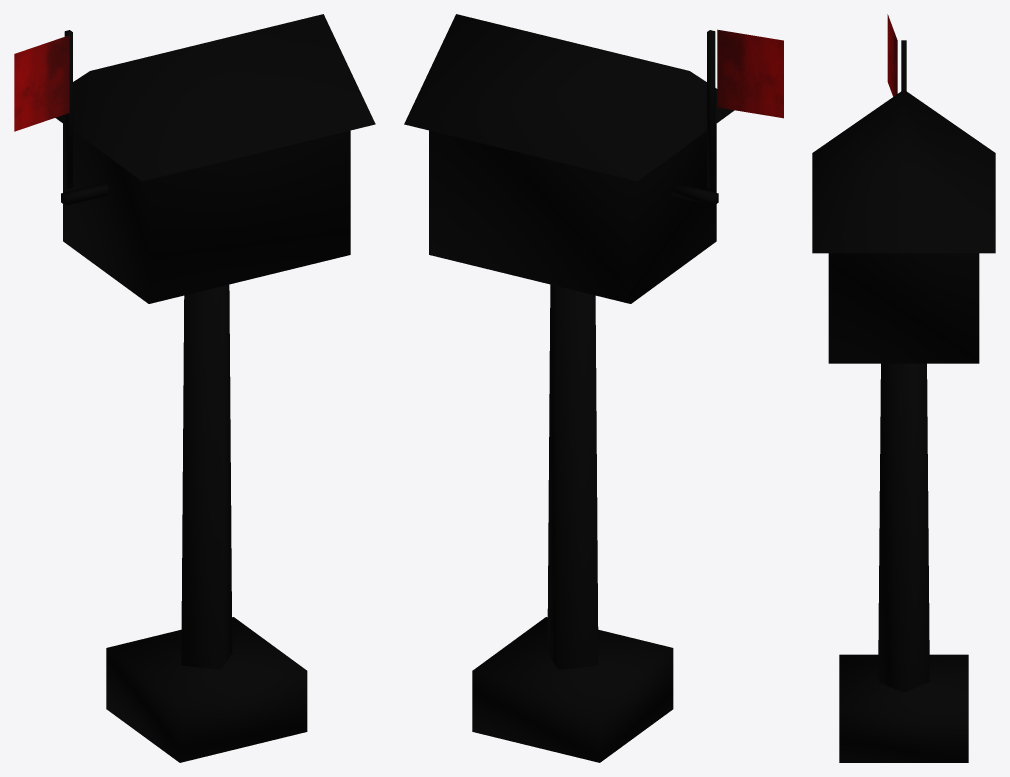
File: prop_haven_mailbox_lod2.glb
3 renders of one model, left to right at view 1: azimuth 30°, elevation 25°; view 2: azimuth 150°, elevation 25°; view 3: azimuth 270°, elevation 25°, orthographic. The views are drawn at different scales.
Visible parts, largest first — view 1: haven_mailbox_lod2; view 2: haven_mailbox_lod2; view 3: haven_mailbox_lod2.
Boxes of the visible parts, box(x1,y1,x2,y2) form: haven_mailbox_lod2: box(14, 14, 375, 762); haven_mailbox_lod2: box(404, 14, 783, 762); haven_mailbox_lod2: box(812, 14, 995, 762).
Size of the model in its own units: 0.6 by 1.3 by 0.34.
Materials: 1 (1 with a texture image).
